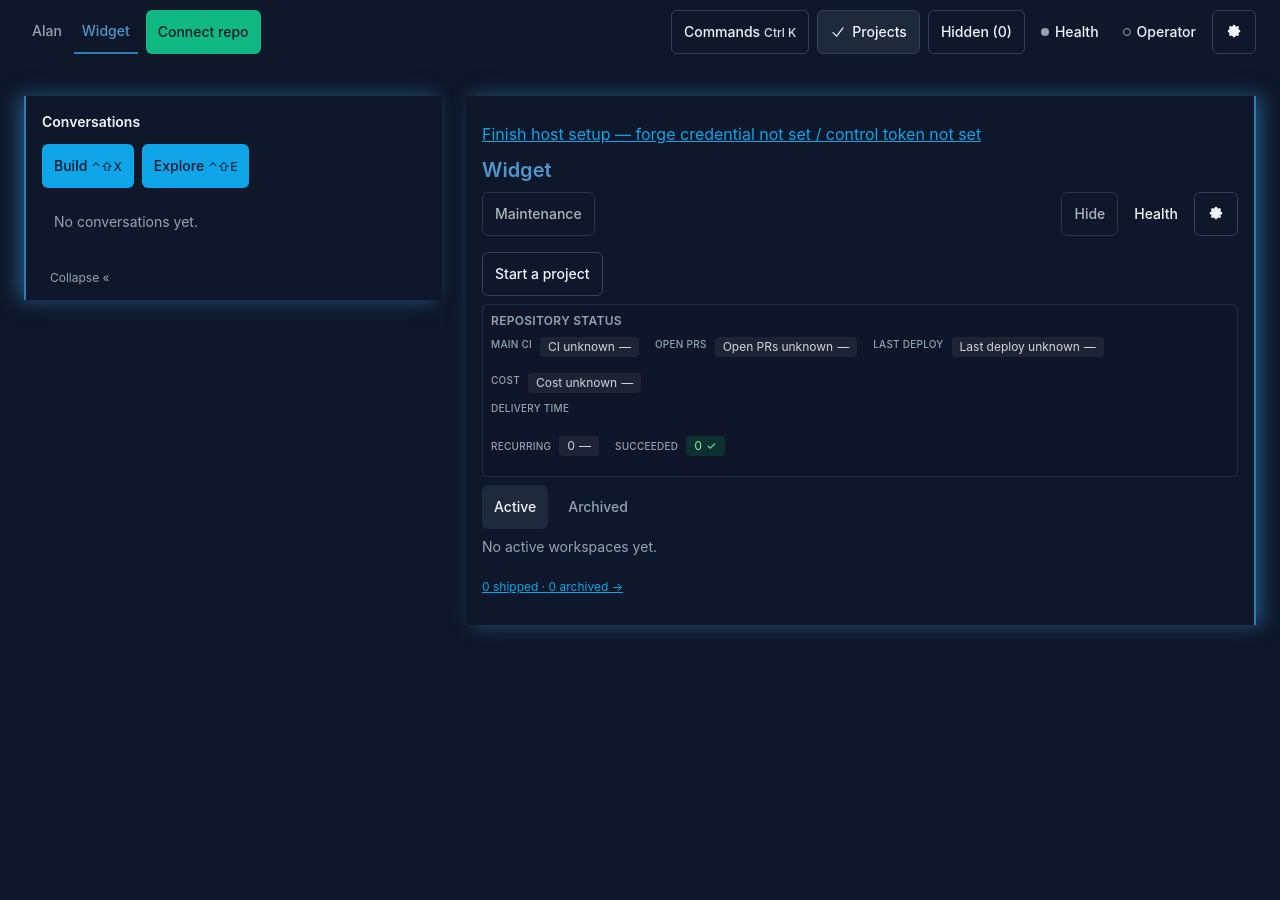
Test case: App shell — Build/Explore shortcuts act on the selected repository › the palette lists Build in and Explore for the repository the page is on
Check: the link with test id "top-bar-repo-acme/widget" is shown, box [74,10,138,54]
Click the button with test id "command-palette-trigger": {"x": 740, "y": 32} [671,10,809,54]
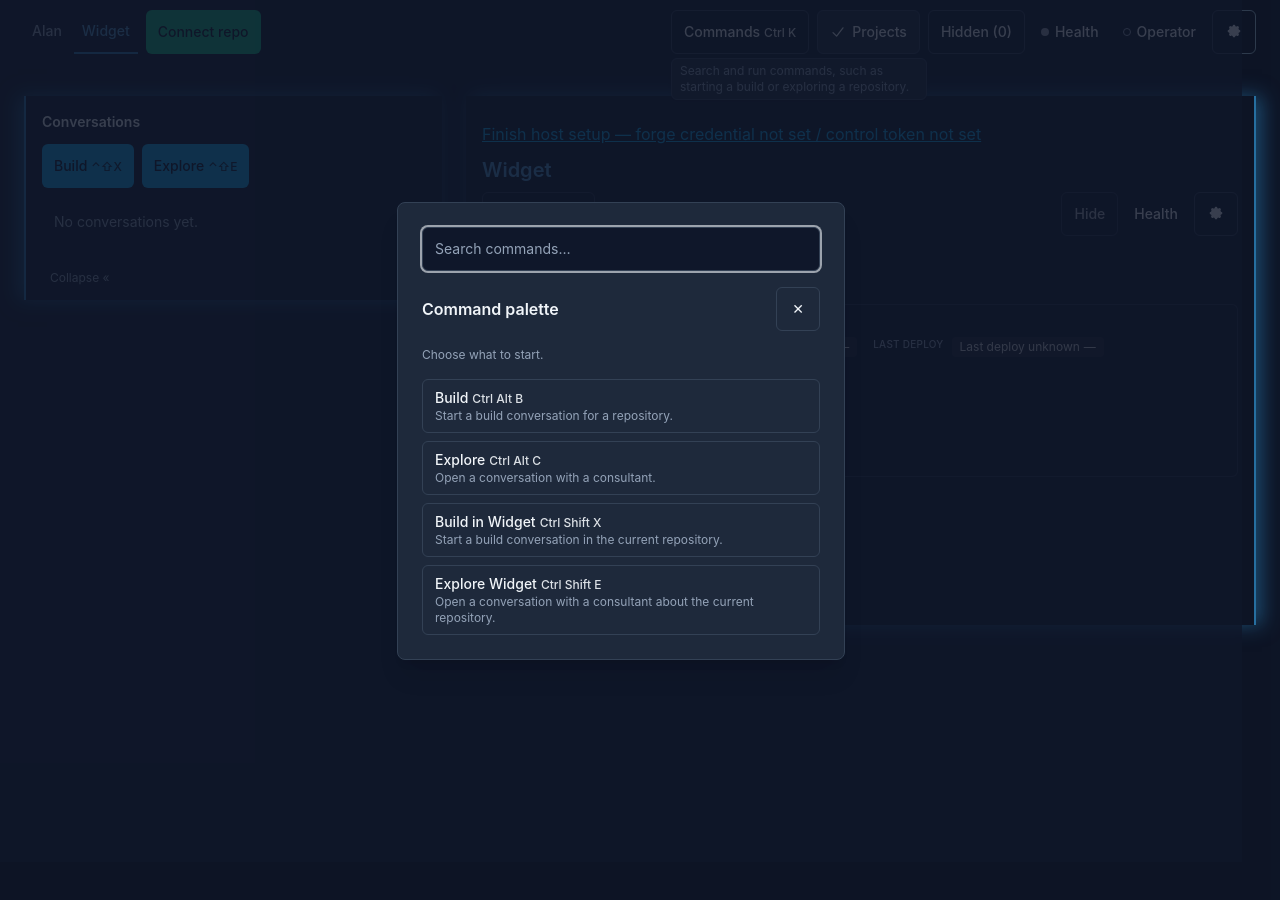
Check: the button with test id "palette-command-build-scoped" shows "Build in Widget", box [422,503,820,557]
Check: the button with test id "palette-command-explore-scoped" shows "Explore Widget", box [422,565,820,635]
